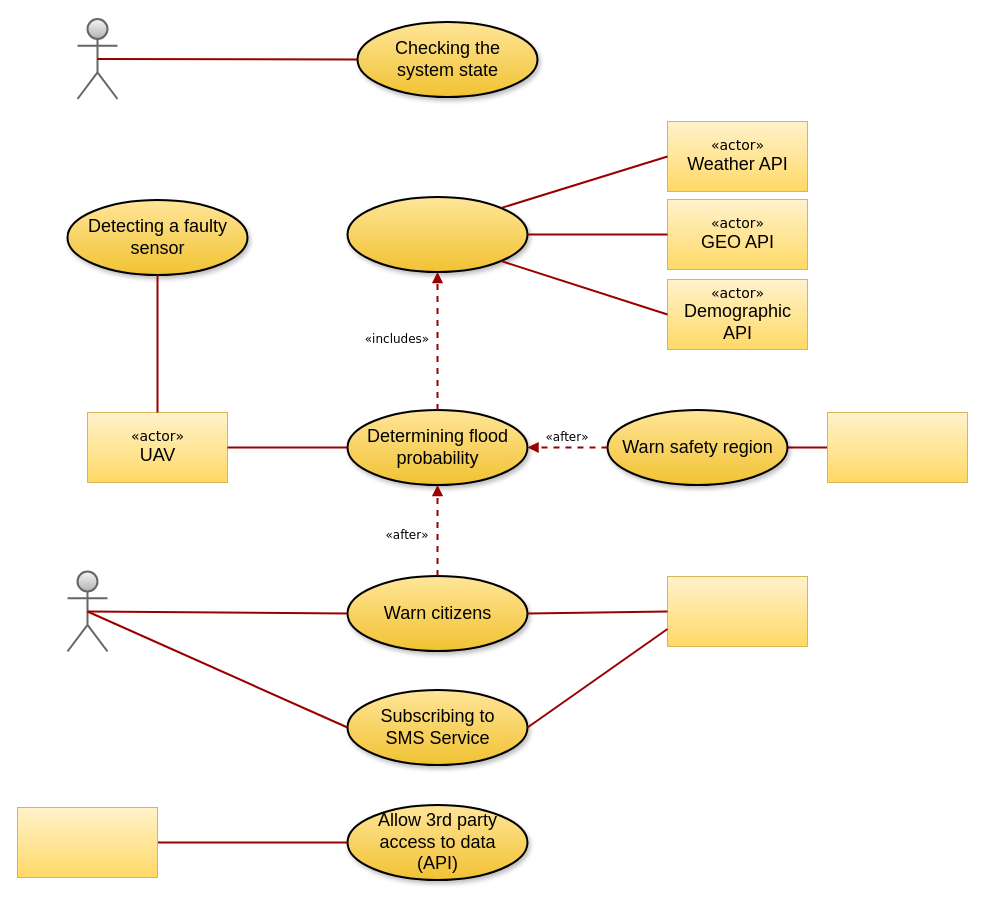
The diagram is 985 pixels wide and 905 high, and some of its shapes have lost their labels. The centre of each missing label's shape, as x and y in pixels:
Citizen: (87,611)
Maintainer: (97,59)
Receive weather/ GEO/demographic data: (438,236)
«actor» Safety Region: (897,447)
«actor» SMS Service: (737,611)
«actor» Third Party Apps: (87,842)
